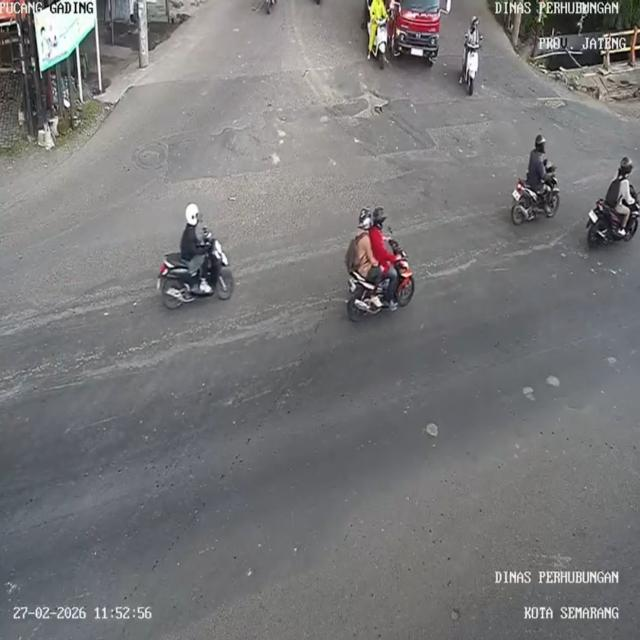motorcycle: (158, 246, 244, 313), (352, 261, 418, 316), (513, 174, 564, 230), (584, 194, 640, 244), (462, 42, 481, 92), (373, 21, 389, 67)
person: (178, 200, 210, 276), (608, 154, 633, 226), (351, 207, 374, 281), (372, 208, 395, 276), (521, 133, 548, 190), (462, 16, 484, 50), (369, 1, 386, 27)
rider_region: (156, 199, 236, 314), (344, 206, 416, 324), (579, 157, 639, 246), (511, 136, 561, 229), (458, 13, 486, 100), (365, 0, 391, 69)
